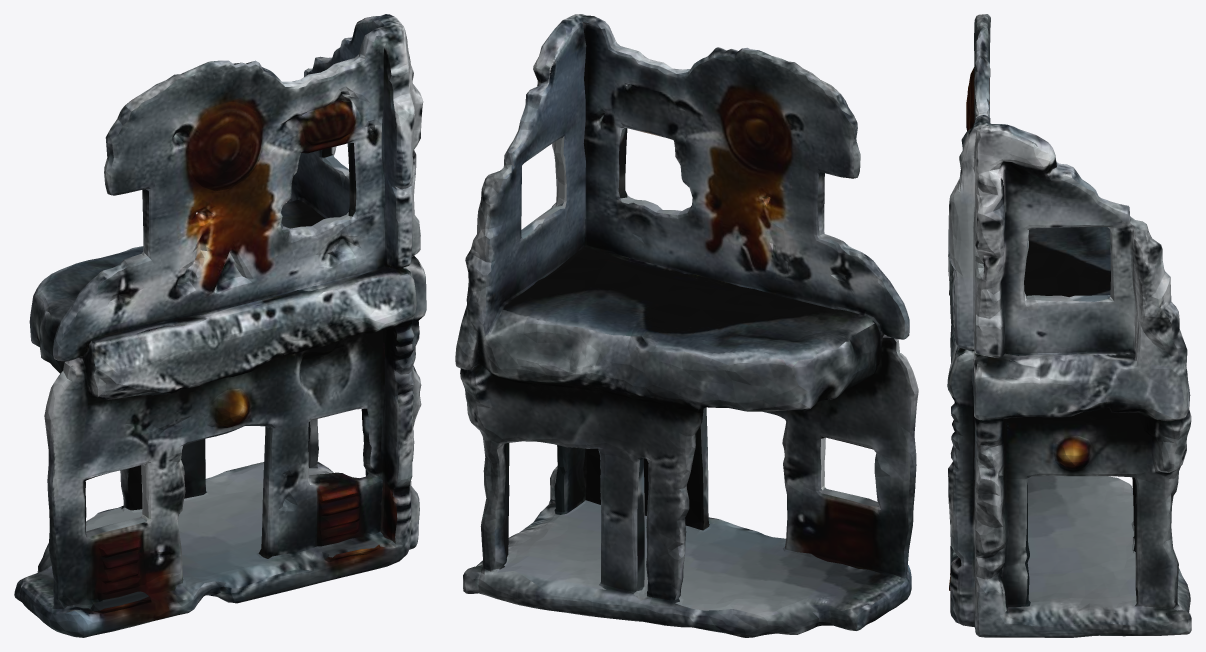
Rendered from ruin-small.glb.
3 views of the same model, side by side, from view 1: azimuth 30°, elevation 25°; view 2: azimuth 150°, elevation 25°; view 3: azimuth 270°, elevation 25° (orthographic). The views are drawn at different scales.
Visible parts, largest first — view 1: tmpcmkvn8g0.ply; view 2: tmpcmkvn8g0.ply; view 3: tmpcmkvn8g0.ply.
Boxes of the visible parts, box(x1,y1,x2,y2) form: tmpcmkvn8g0.ply: box(14, 14, 426, 637); tmpcmkvn8g0.ply: box(455, 14, 918, 637); tmpcmkvn8g0.ply: box(947, 14, 1191, 637).
Bounding box in the file's own units: 1 × 1.35 × 0.5808.
1 material, 1 textured.
